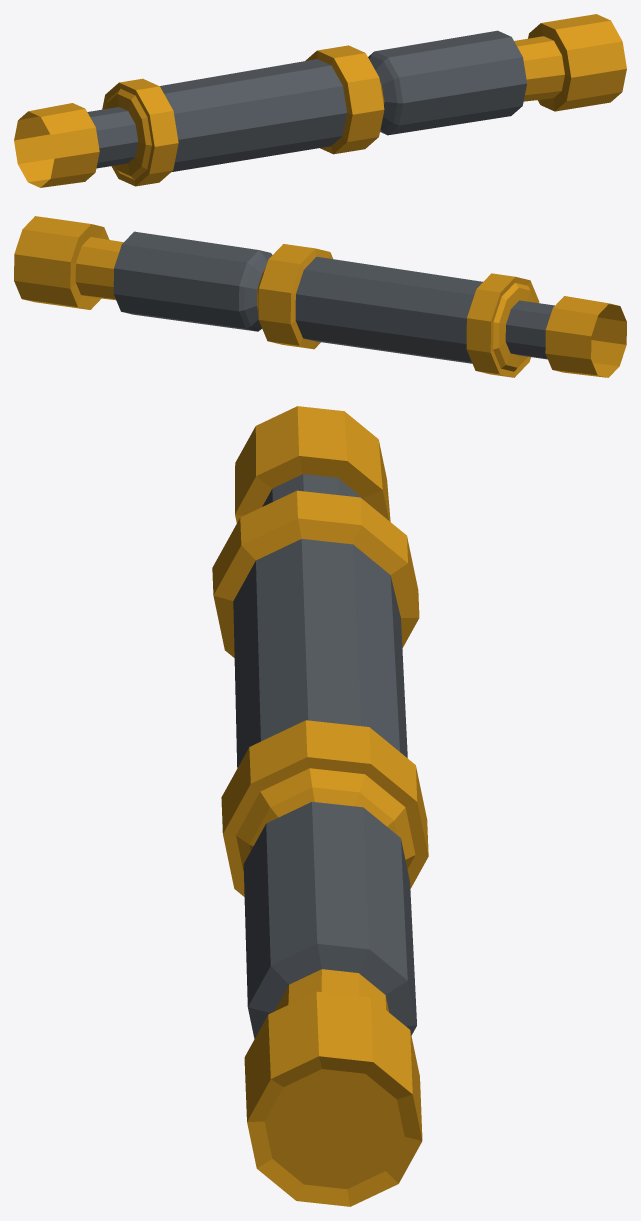
File: Fighter_03_Pipes_02_Yellow.fbx
3 renders of one model, top to bottom at view 1: azimuth 30°, elevation 25°; view 2: azimuth 150°, elevation 25°; view 3: azimuth 270°, elevation 25°, orthographic. The views are drawn at different scales.
Visible parts, largest first — view 1: Fighter_03_Pipes_02_Yellow; view 2: Fighter_03_Pipes_02_Yellow; view 3: Fighter_03_Pipes_02_Yellow.
Boxes of the visible parts, x1=… form: Fighter_03_Pipes_02_Yellow: x1=14, y1=14, x2=626, y2=187; Fighter_03_Pipes_02_Yellow: x1=14, y1=216, x2=626, y2=377; Fighter_03_Pipes_02_Yellow: x1=212, y1=406, x2=428, y2=1206.
Size of the model in its own units: 124 by 26.82 by 20.27.
Materials: 1 (1 with a texture image).
